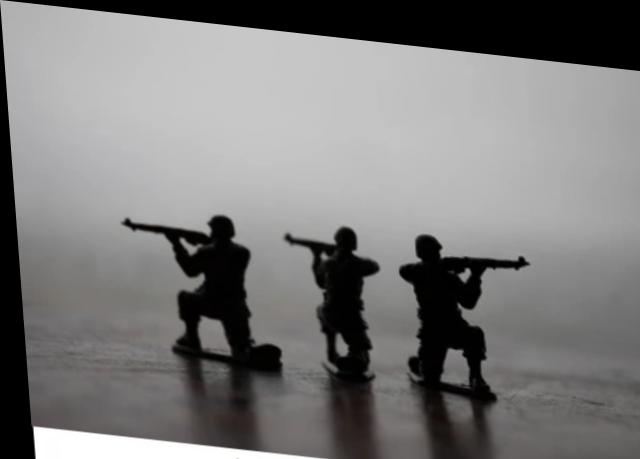other: (129, 184, 281, 390), (387, 195, 507, 399)
